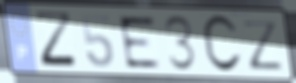3: (163, 14, 198, 73)
5: (79, 13, 116, 69)
C: (200, 13, 245, 76)
E: (116, 15, 164, 71)
Z: (32, 10, 81, 71), (240, 19, 286, 72)
